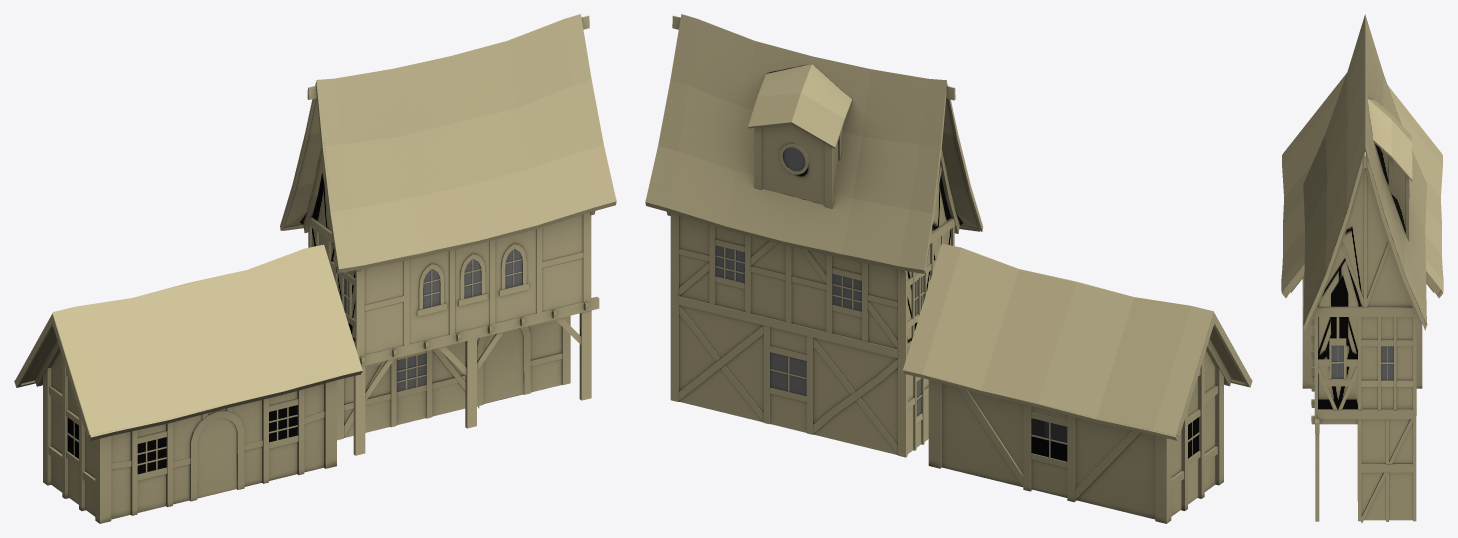
Rendered from wall.gltf.
3 renders of one model, left to right at view 1: azimuth 30°, elevation 25°; view 2: azimuth 150°, elevation 25°; view 3: azimuth 270°, elevation 25°, orthographic. The views are drawn at different scales.
Visible parts, largest first — view 1: building.01, building.000; view 2: building.01, building.000; view 3: building.01, building.000.
Boxes of the visible parts, box(x1,y1,x2,y2) form: building.01: box(280, 14, 616, 455); building.000: box(14, 244, 362, 523); building.01: box(645, 14, 983, 457); building.000: box(782, 147, 1252, 523); building.01: box(1303, 14, 1427, 523); building.000: box(1281, 73, 1443, 388).
Size of the model in its own units: 16 by 10.42 by 4.
4 materials, 4 textured.
